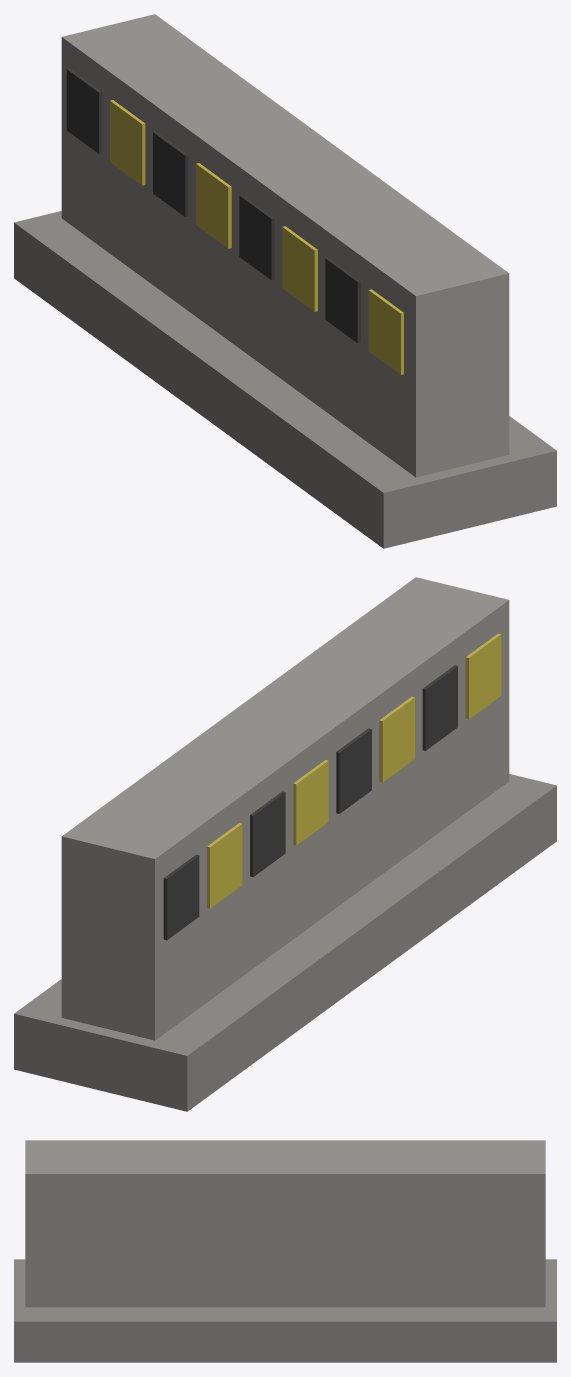
File: SM_CheckpointBarrier.glb
3 renders of one model, top to bottom at view 1: azimuth 30°, elevation 25°; view 2: azimuth 150°, elevation 25°; view 3: azimuth 270°, elevation 25°, orthographic. The views are drawn at different scales.
Parts seen in each view (by area): view 1: body, base, hazard0, hazard2, hazard3, hazard4, hazard5, hazard6, hazard7, hazard1; view 2: body, base, hazard7, hazard0, hazard1, hazard4, hazard5, hazard2, hazard3, hazard6; view 3: body, base.
Part boxes in pixels (x1=…): body: x1=61, y1=14, x2=509, y2=477; base: x1=14, y1=211, x2=556, y2=548; hazard0: x1=66, y1=68, x2=102, y2=153; hazard2: x1=153, y1=131, x2=188, y2=217; hazard3: x1=196, y1=163, x2=231, y2=248; hazard4: x1=239, y1=194, x2=274, y2=280; hazard5: x1=282, y1=226, x2=317, y2=311; hazard6: x1=325, y1=257, x2=360, y2=343; hazard7: x1=368, y1=289, x2=403, y2=374; hazard1: x1=110, y1=100, x2=145, y2=185; body: x1=61, y1=577, x2=509, y2=1040; base: x1=14, y1=774, x2=556, y2=1111; hazard7: x1=465, y1=633, x2=501, y2=719; hazard0: x1=163, y1=854, x2=199, y2=940; hazard1: x1=207, y1=823, x2=242, y2=908; hazard4: x1=336, y1=728, x2=371, y2=813; hazard5: x1=379, y1=697, x2=414, y2=782; hazard2: x1=250, y1=791, x2=285, y2=876; hazard3: x1=293, y1=760, x2=328, y2=845; hazard6: x1=422, y1=665, x2=457, y2=750; body: x1=25, y1=1140, x2=545, y2=1307; base: x1=14, y1=1259, x2=556, y2=1362.
Bounding box in the file's own units: 0.65 × 0.85 × 2.4.
